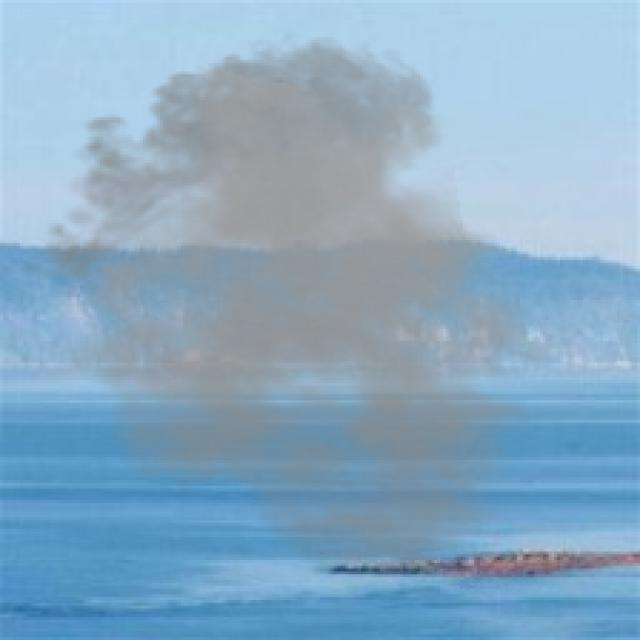smoke: (20, 29, 580, 580)
